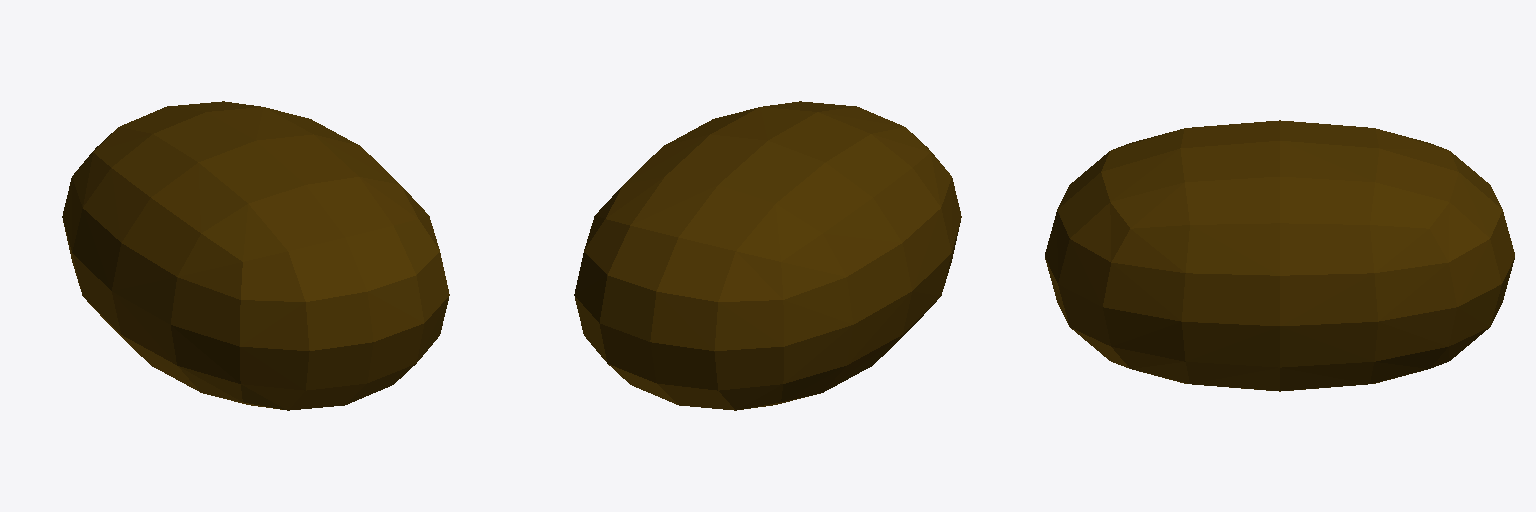
Rendered from Potato.obj.
3 renders of one model, left to right at view 1: azimuth 30°, elevation 25°; view 2: azimuth 150°, elevation 25°; view 3: azimuth 270°, elevation 25°, orthographic.
Parts seen in each view (by area): view 1: Potato_Cube.001; view 2: Potato_Cube.001; view 3: Potato_Cube.001.
Boxes of the visible parts, x1,y1,x2,y2 form: Potato_Cube.001: [62, 101, 449, 410]; Potato_Cube.001: [574, 101, 961, 410]; Potato_Cube.001: [1045, 120, 1514, 391].
Size of the model in its own units: 1.82 by 1.39 by 2.58.